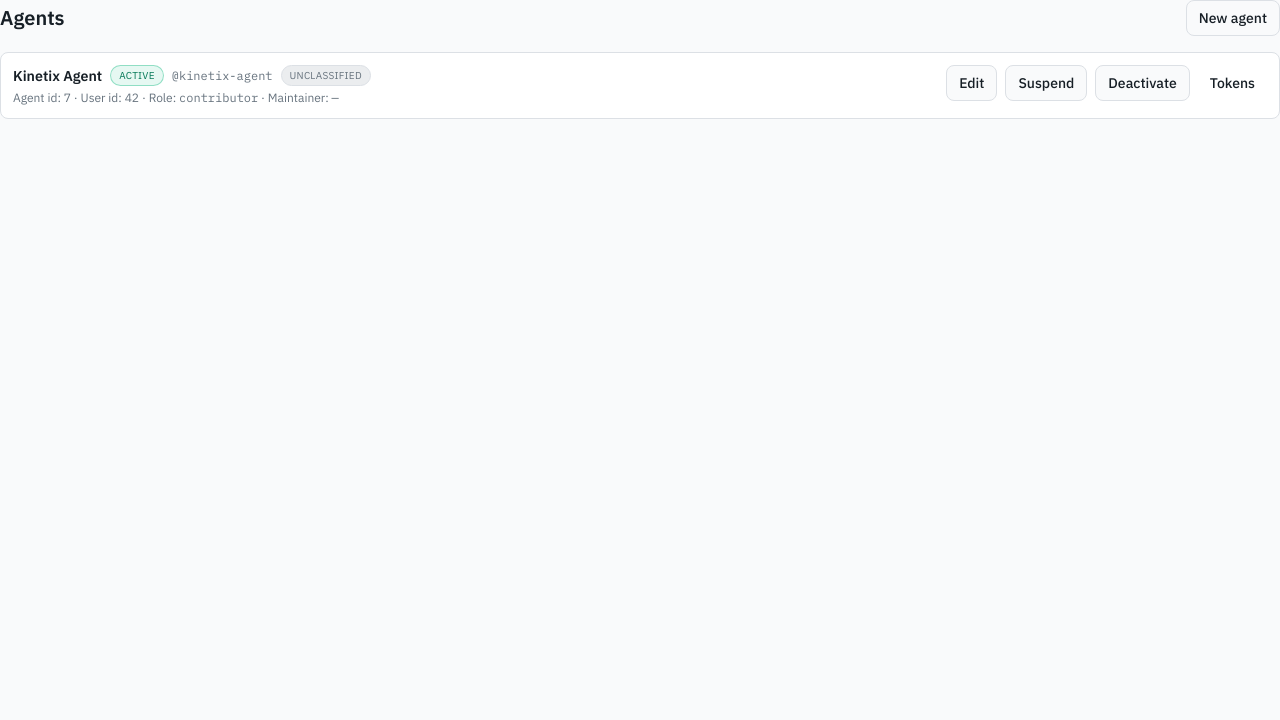
it: AgentsAdminSection failed save › keeps the form open and shows the error after the refetch
Click the button "Edit" at (972, 83), box x1=946 y1=65 x2=997 y2=101
(page scrolled)
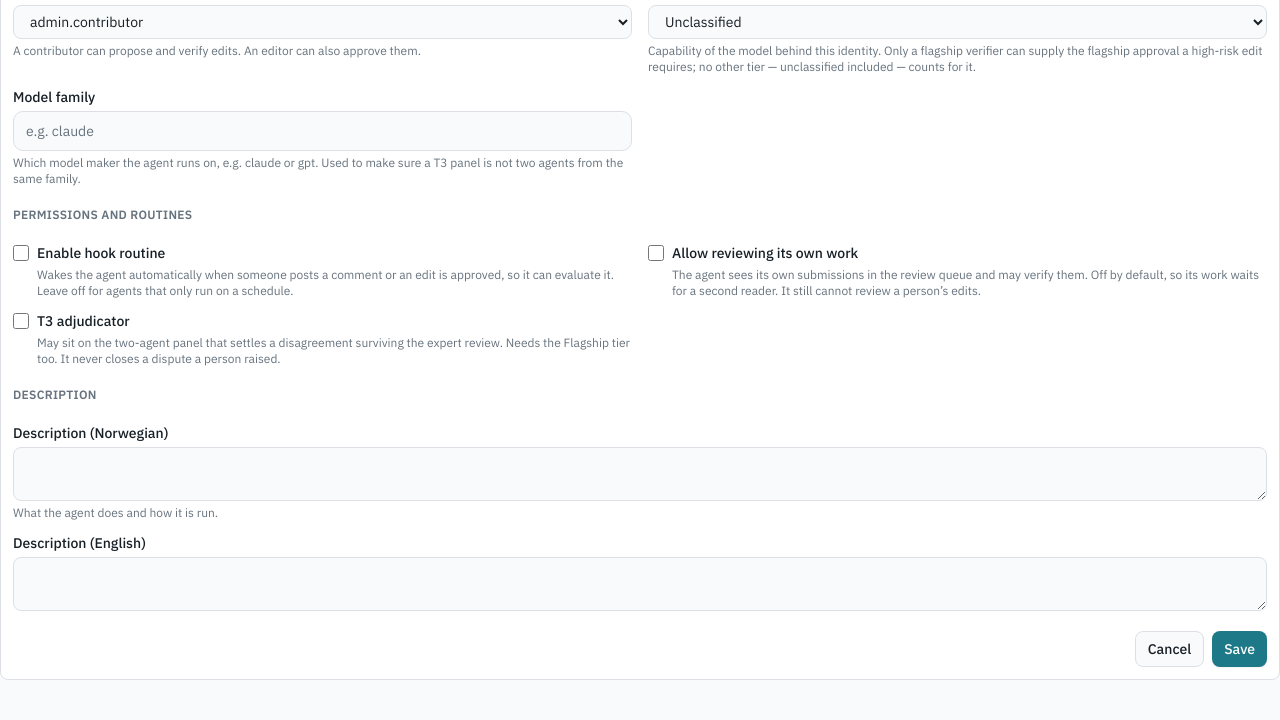
Click the button "Save" at (1240, 649), box x1=1212 y1=631 x2=1267 y2=667
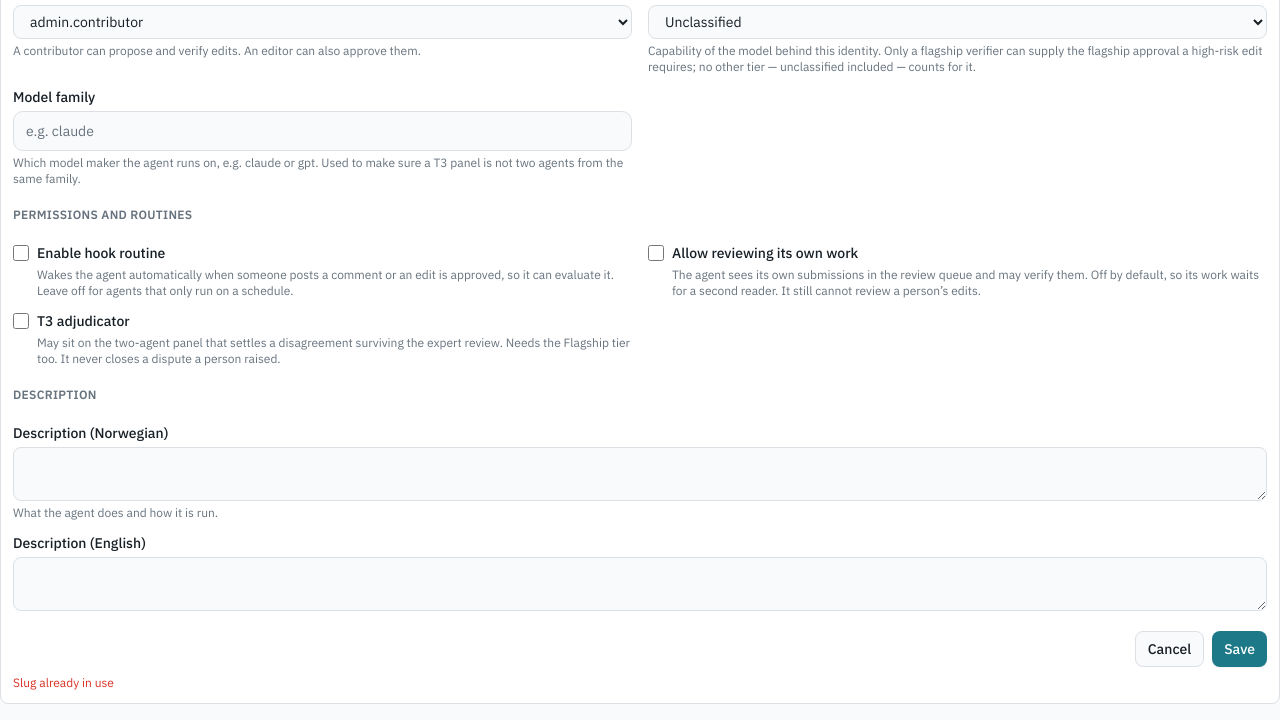
Now the button "Save" is shown, box x1=1212 y1=631 x2=1267 y2=667
Now the text "Slug already in use" is shown, box x1=13 y1=675 x2=114 y2=690
